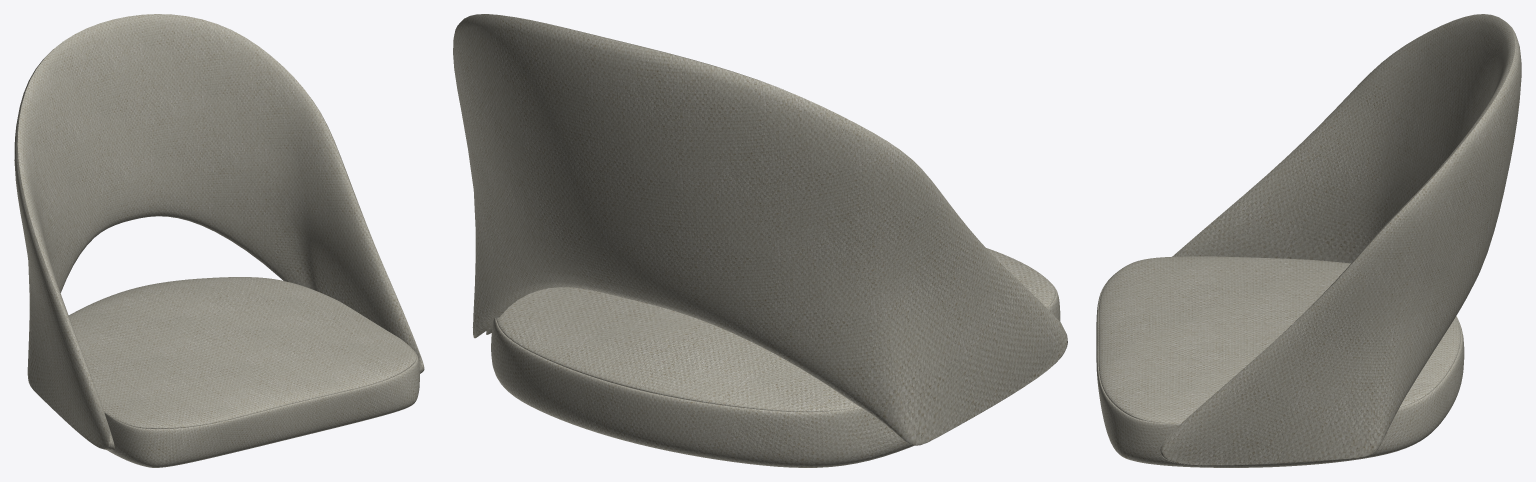
File: Olivia.glb
3 renders of one model, left to right at view 1: azimuth 30°, elevation 25°; view 2: azimuth 150°, elevation 25°; view 3: azimuth 270°, elevation 25°, orthographic. The views are drawn at different scales.
Visible parts, largest first — view 1: backseat; view 2: backseat; view 3: backseat.
Boxes of the visible parts, bbox=[...] form: backseat: bbox=[14, 14, 424, 467]; backseat: bbox=[453, 14, 1067, 467]; backseat: bbox=[1096, 14, 1521, 467].
Bounding box in the file's own units: 0.5827 × 0.5157 × 0.5811.
1 material, 1 textured.
